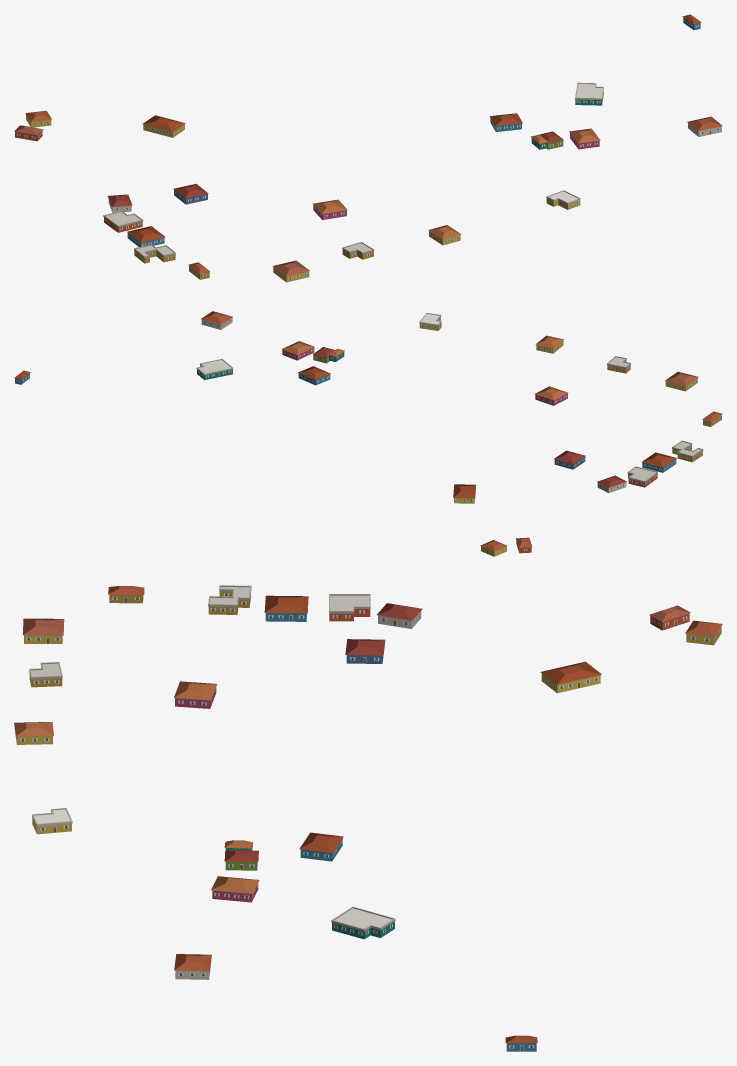
File: msb_sannicolas_20_20.glb
3 views of the same model, one above another, from view 1: azimuth 30°, elevation 25°; view 2: azimuth 150°, elevation 25°; view 3: azimuth 270°, elevation 25° (orthographic). The views are drawn at different scales.
Parts seen in each view (by area): view 1: msb_sannicolas_20_20_lod0; view 2: msb_sannicolas_20_20_lod0; view 3: msb_sannicolas_20_20_lod0.
Part boxes in pixels (x1=…): msb_sannicolas_20_20_lod0: x1=14, y1=14, x2=722, y2=282; msb_sannicolas_20_20_lod0: x1=14, y1=311, x2=722, y2=556; msb_sannicolas_20_20_lod0: x1=14, y1=585, x2=722, y2=1051.
Size of what is drawn, in the model's own units: 383 by 13.51 by 250.
Materials: 3 (1 with a texture image).
